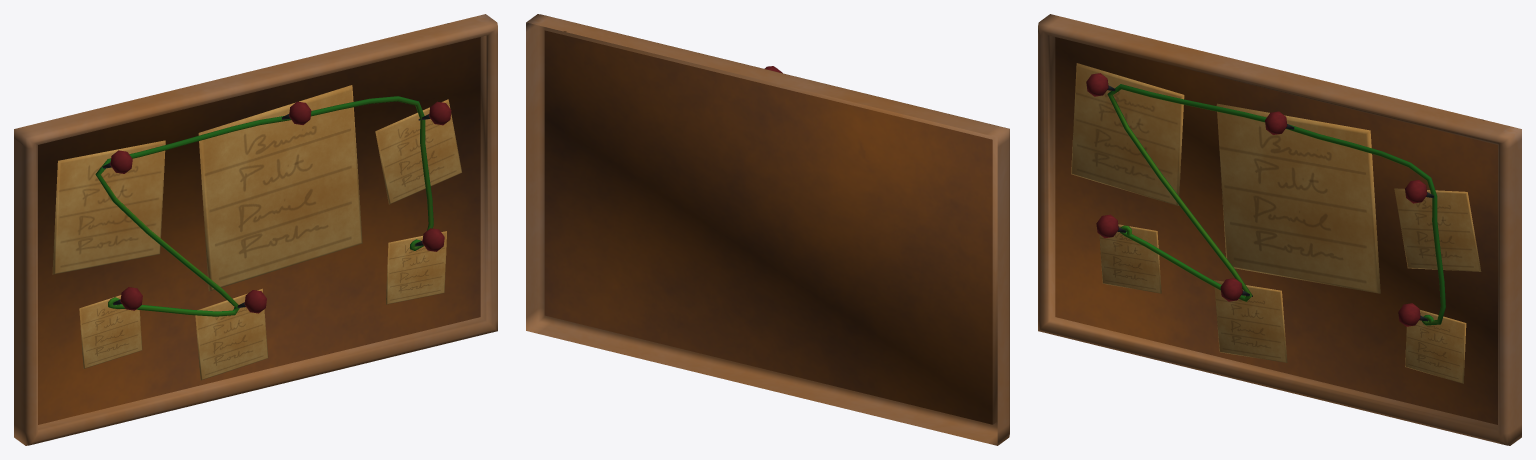
File: Mural.fbx
The picture shows the model from 3 angles, left to right: view 1: azimuth 30°, elevation 25°; view 2: azimuth 150°, elevation 25°; view 3: azimuth 330°, elevation 25°; orthographic projection.
Parts seen in each view (by area): view 1: Cube.001; view 2: Cube.001; view 3: Cube.001.
Boxes of the visible parts, box(x1,y1,x2,y2) form: Cube.001: box(14, 14, 497, 445); Cube.001: box(526, 14, 1009, 445); Cube.001: box(1038, 14, 1521, 445).
Size of the model in its own units: 80 by 50 by 10.57.
1 material, 1 textured.
